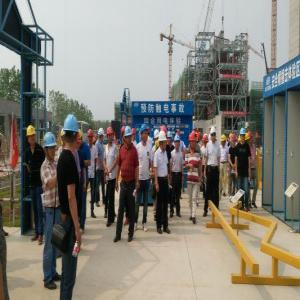blue: (63, 113, 80, 150), (43, 130, 58, 164), (125, 124, 133, 148), (141, 121, 149, 145), (239, 127, 247, 147), (174, 134, 181, 152)
red: (106, 126, 115, 148), (188, 134, 197, 151), (88, 127, 95, 146), (231, 134, 236, 147)
white: (159, 131, 168, 151), (98, 126, 106, 144), (211, 126, 218, 145)
yellow: (26, 123, 38, 149), (221, 133, 228, 149)
